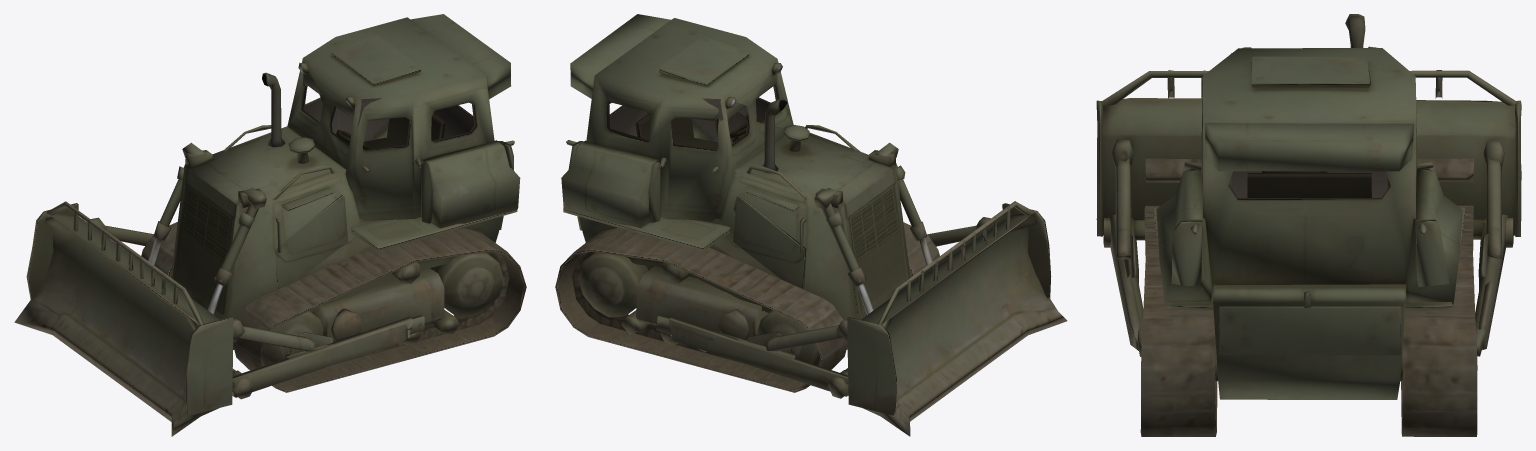
File: us-dozer.glb
3 views of the same model, side by side, from view 1: azimuth 30°, elevation 25°; view 2: azimuth 150°, elevation 25°; view 3: azimuth 270°, elevation 25° (orthographic). The views are drawn at different scales.
Parts seen in each view (by area): view 1: geometry_0; view 2: geometry_0; view 3: geometry_0.
Part boxes in pixels (box(x1,y1,x2,y2)): geometry_0: box(14, 14, 526, 436); geometry_0: box(555, 14, 1067, 436); geometry_0: box(1096, 14, 1521, 436).
Bounding box in the file's own units: 1 × 0.64 × 0.7112.
Materials: 1 (1 with a texture image).
